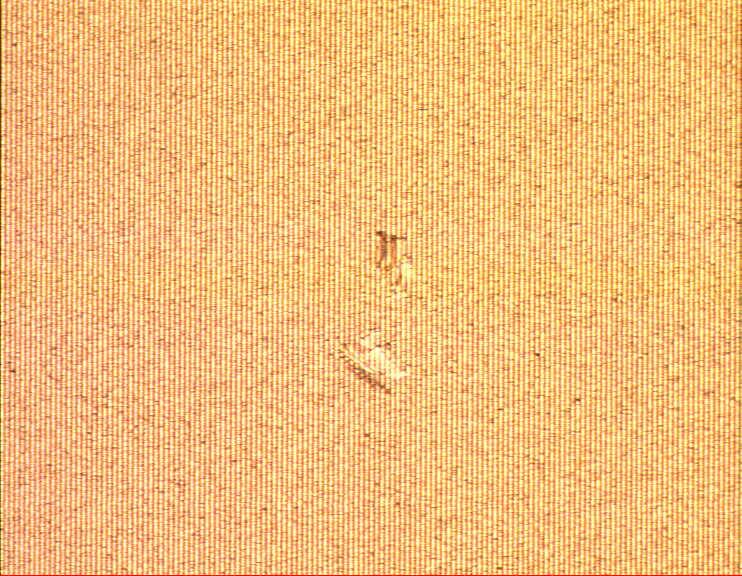SCRATCH: (333, 221, 429, 412)
